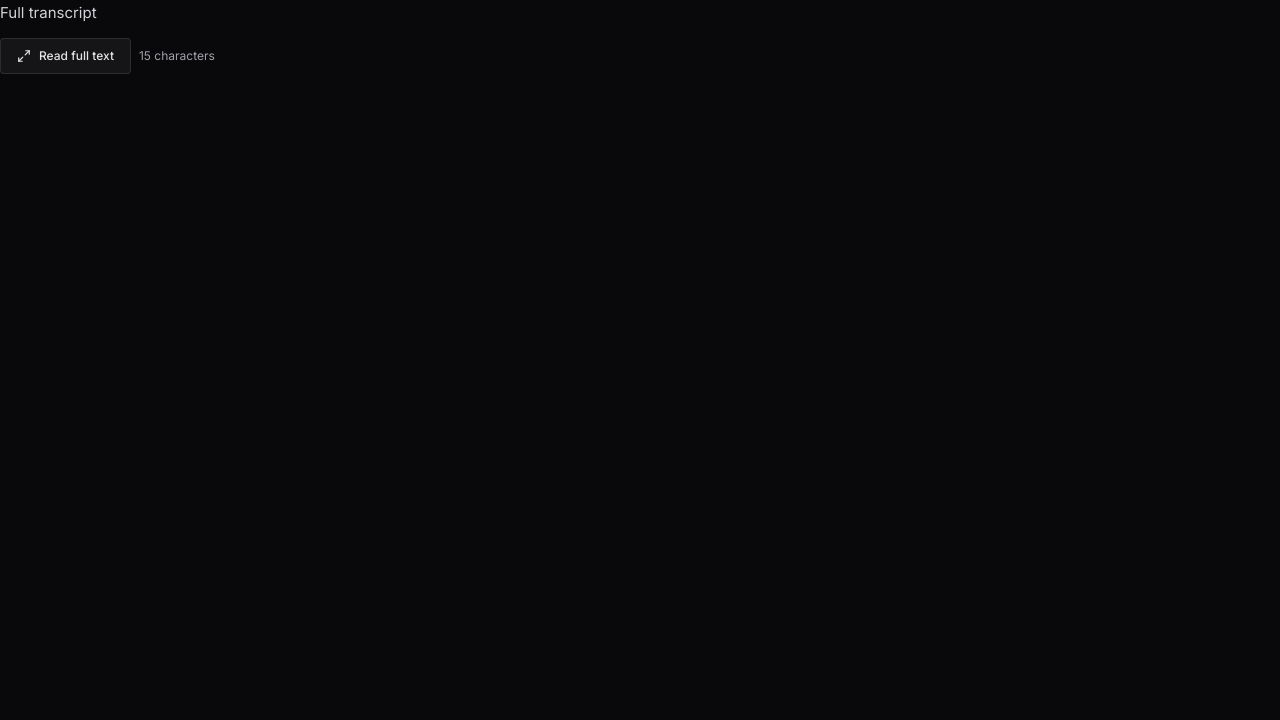
Test: text reader defaults to no export while copying remains available
Click the button "Read full text" at (66, 56), box left=0, top=38, right=131, bottom=74
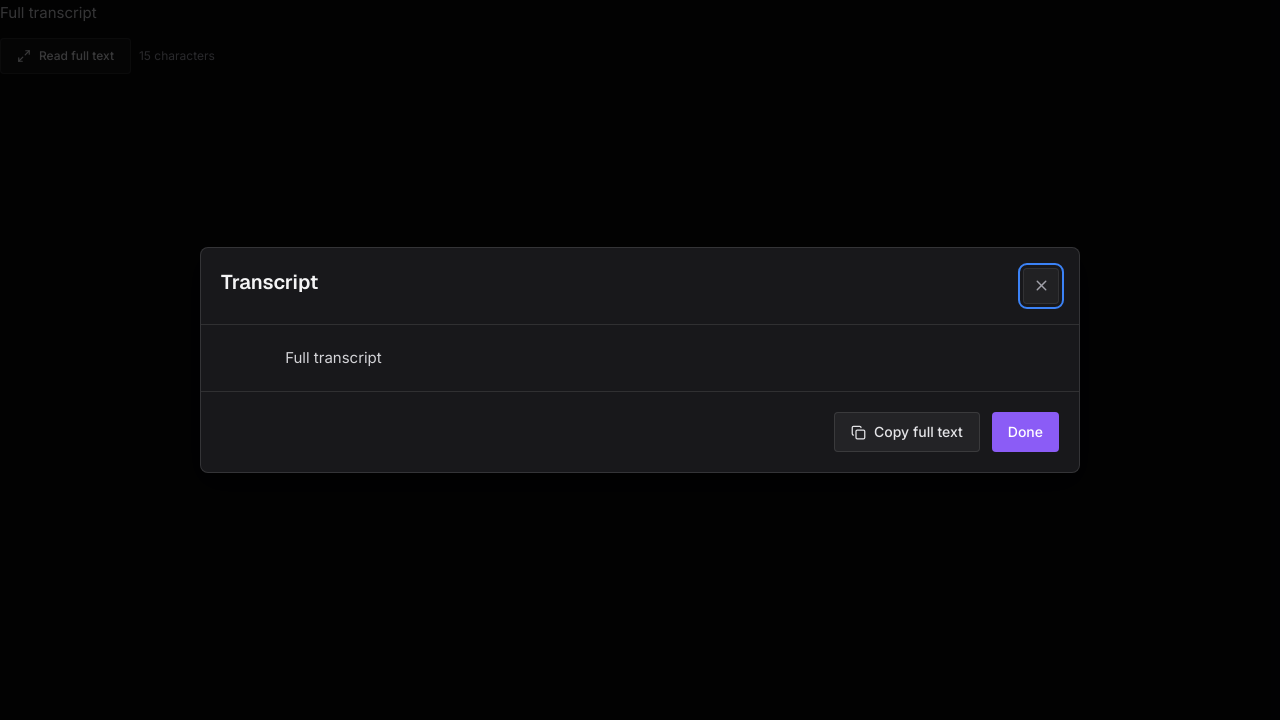
Expected: the button "Copy full text" is enabled, left=834, top=412, right=980, bottom=452
